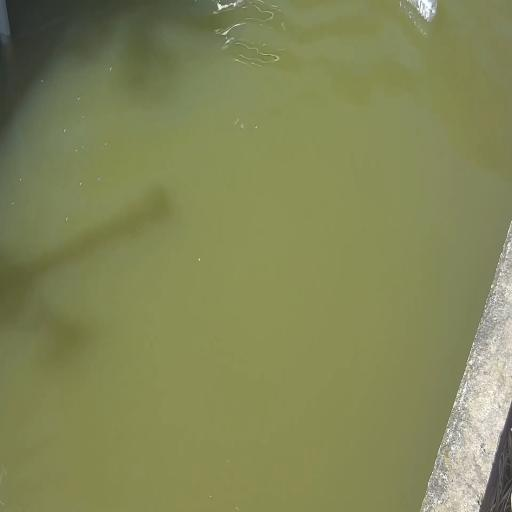plastic: (405, 0, 440, 25)
